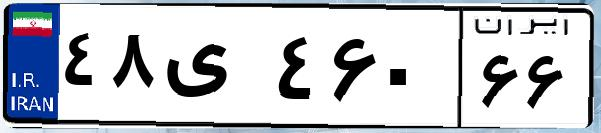0: (385, 28, 445, 110)
4: (270, 28, 330, 110), (57, 26, 110, 100)
6: (330, 28, 385, 110), (475, 38, 525, 113), (525, 38, 570, 115)
8: (110, 28, 158, 98)
ی: (158, 20, 270, 120)
